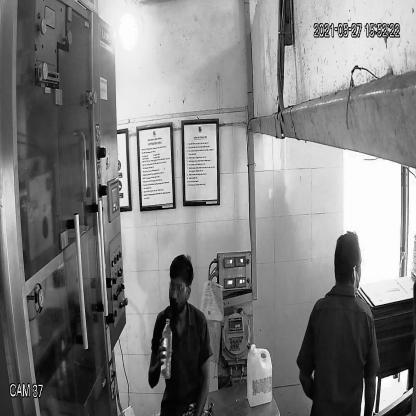goggles: (165, 277, 194, 296)
